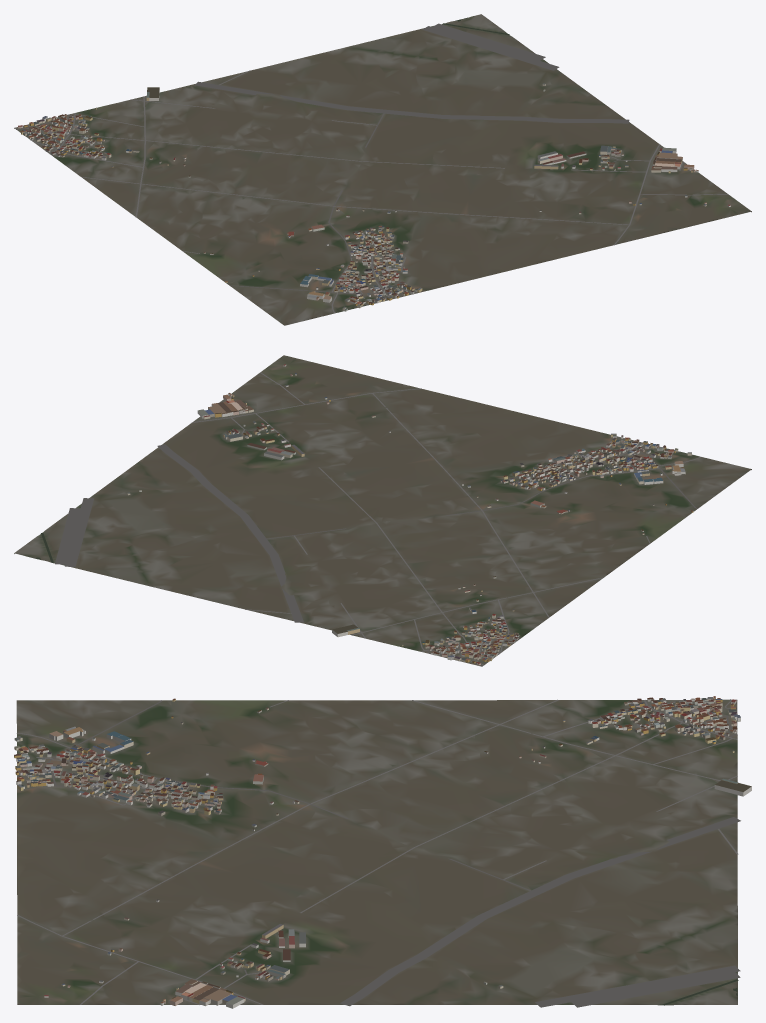
3 views of the same model, one above another, from view 1: azimuth 30°, elevation 25°; view 2: azimuth 150°, elevation 25°; view 3: azimuth 270°, elevation 25° (orthographic). The views are drawn at different scales.
Visible parts, largest first — view 1: ground, buildings, roads; view 2: ground, buildings, roads; view 3: ground, buildings, roads.
Boxes of the visible parts, left/top/right/bottom form: ground: left=14, top=14, right=751, bottom=325; buildings: left=18, top=83, right=730, bottom=311; roads: left=15, top=23, right=728, bottom=313; ground: left=14, top=355, right=751, bottom=666; buildings: left=127, top=364, right=693, bottom=665; roads: left=55, top=372, right=700, bottom=666; ground: left=16, top=699, right=737, bottom=1005; buildings: left=14, top=696, right=751, bottom=1008; roads: left=16, top=699, right=740, bottom=1007.
Size of the model in its own units: 1422 by 15.1 by 1436.
